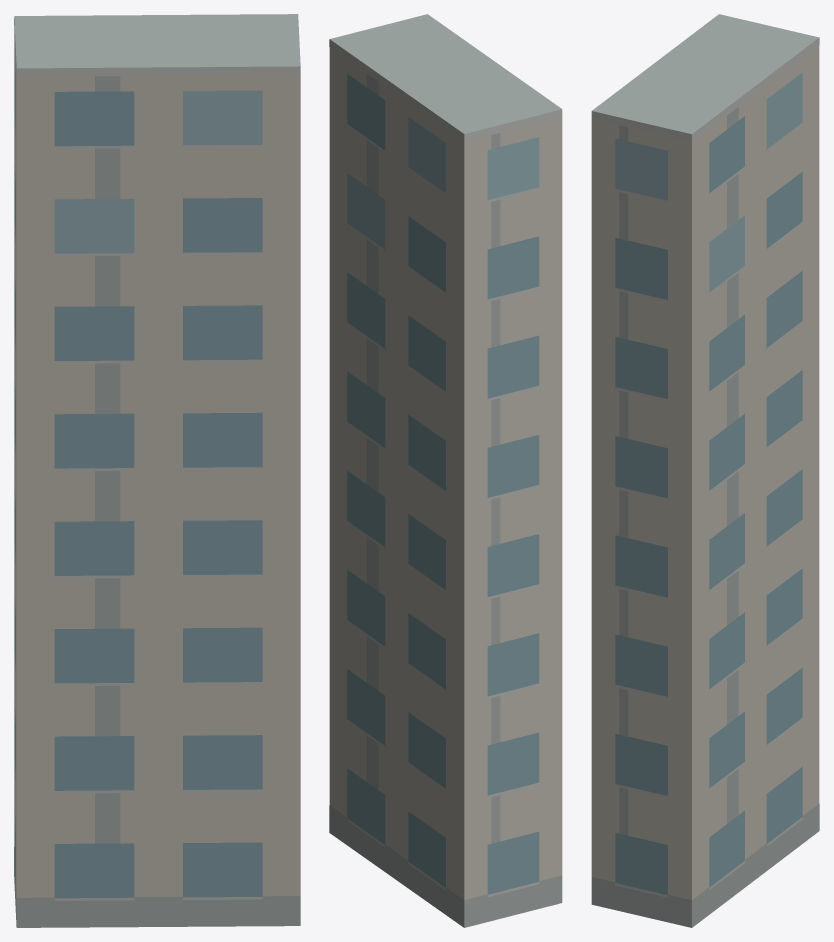
File: survey-upis-32718299.glb
3 views of the same model, side by side, from view 1: azimuth 30°, elevation 25°; view 2: azimuth 150°, elevation 25°; view 3: azimuth 270°, elevation 25° (orthographic). The views are drawn at different scales.
Visible parts, largest first — view 1: survey-upis-32718299.tmp; view 2: survey-upis-32718299.tmp; view 3: survey-upis-32718299.tmp.
Part boxes in pixels (x1=…): survey-upis-32718299.tmp: x1=14, y1=14, x2=300, y2=927; survey-upis-32718299.tmp: x1=329, y1=14, x2=562, y2=927; survey-upis-32718299.tmp: x1=591, y1=14, x2=819, y2=927.
Size of the model in its own units: 7.94 by 24.4 by 6.35.
